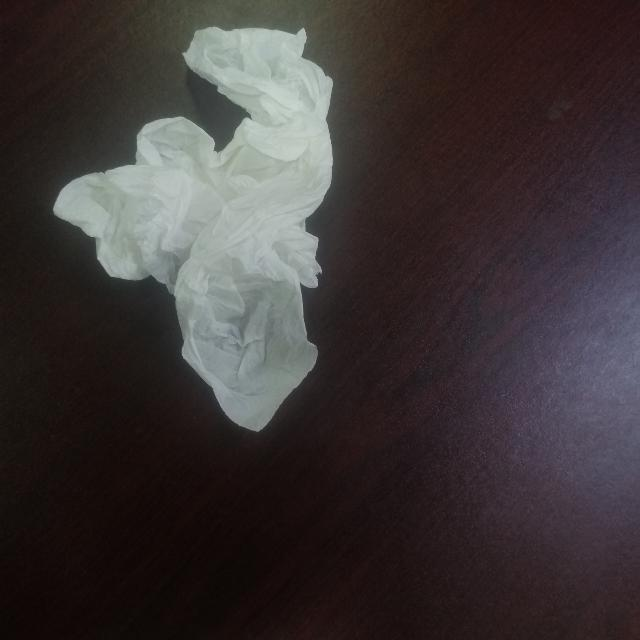kitchen paper: (48, 22, 342, 438)
